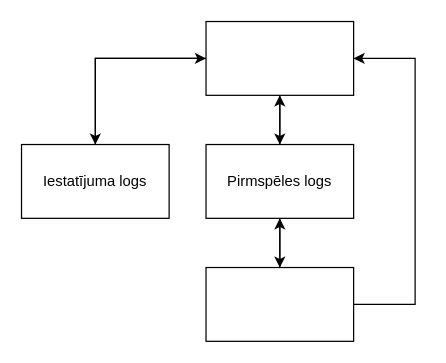
Image size: 446x363. Some labels were removed from this diagram. The centre of each missing label's shape, as x and y in pixels:
"Galvēnās izvelnes logs" goes at point 279,57.
"Spēles logs" goes at point 279,303.
